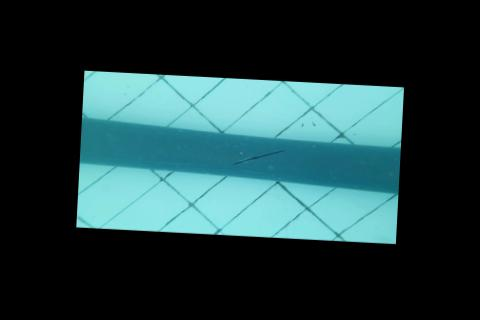keretakan: (231, 144, 286, 167)
